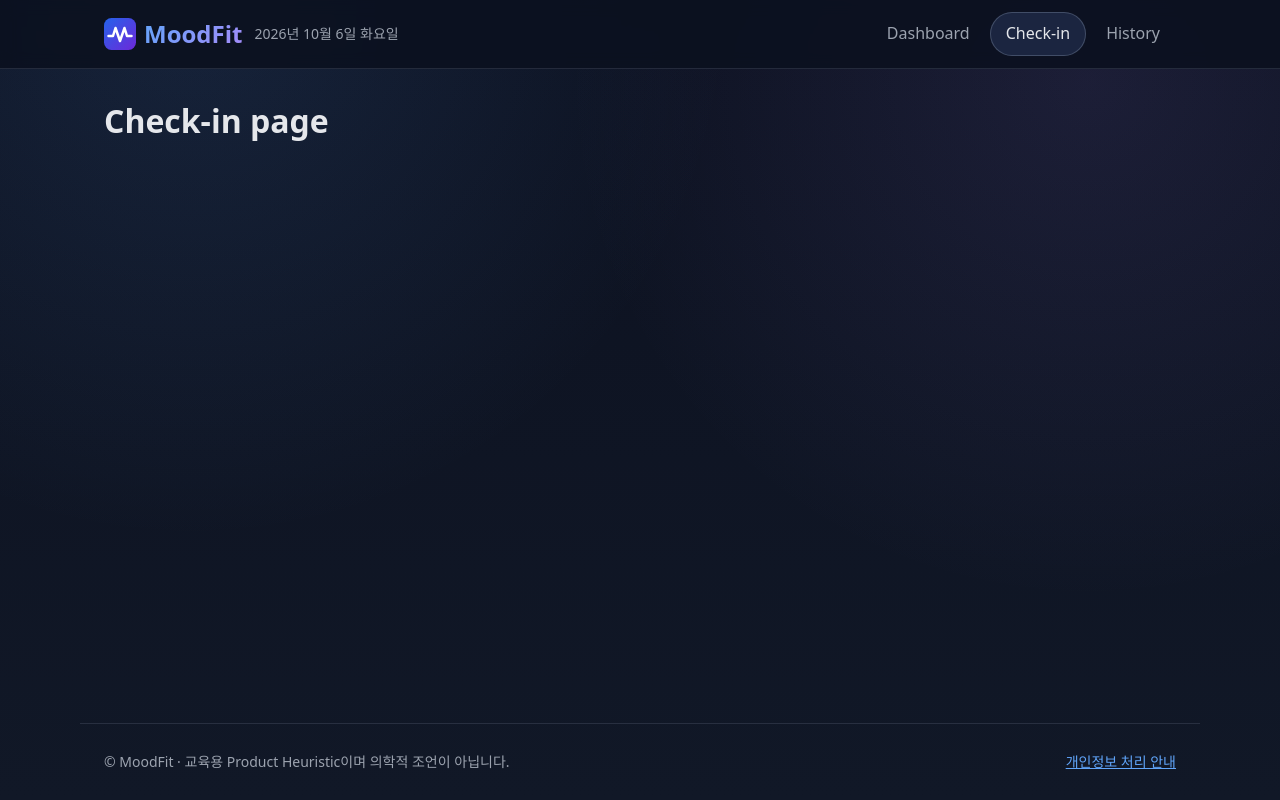
Test: AppLayout brand › navigates from /check-in to Dashboard inside the router
Expected: the heading "Dashboard page" is not shown
Click the link "MoodFit": (173,34) [104,15,242,53]
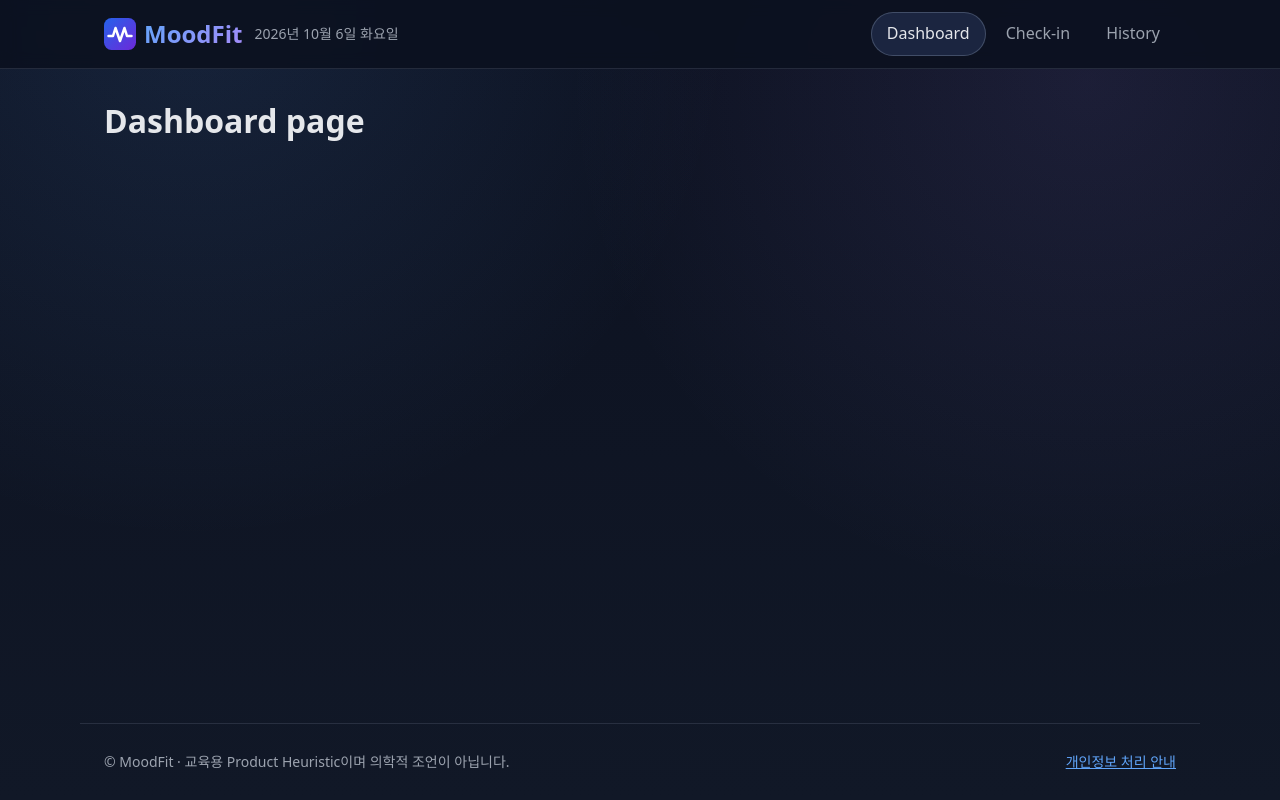
Expected: the heading "Dashboard page" is shown, [104,99,364,142]
